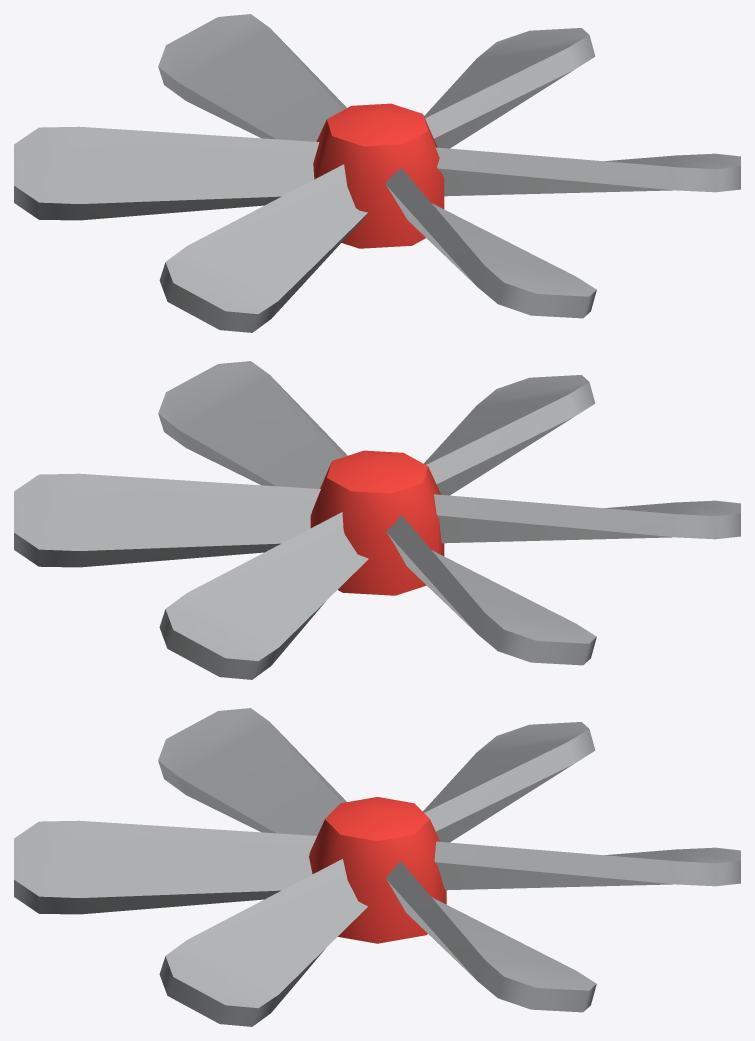
File: Drone_015_propeller_001.fbx
3 renders of one model, top to bottom at view 1: azimuth 30°, elevation 25°; view 2: azimuth 150°, elevation 25°; view 3: azimuth 270°, elevation 25°, orthographic.
Visible parts, largest first — view 1: Drone_015_propeller_001; view 2: Drone_015_propeller_001; view 3: Drone_015_propeller_001.
Part boxes in pixels (box(x1,y1,x2,y2)): Drone_015_propeller_001: box(14, 14, 740, 332); Drone_015_propeller_001: box(14, 361, 740, 679); Drone_015_propeller_001: box(14, 708, 740, 1026).
Bounding box in the file's own units: 26.47 × 28.98 × 4.7.
